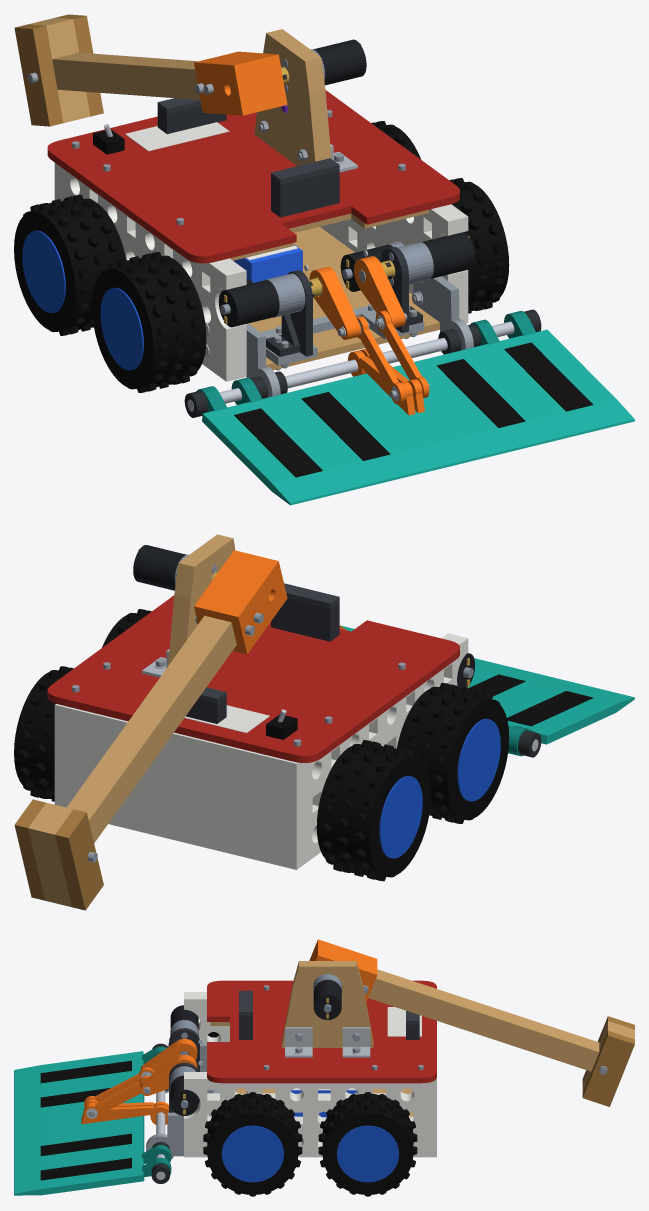
Rendered from Metal_Monster_robot.glb.
3 views of the same model, one above another, from view 1: azimuth 30°, elevation 25°; view 2: azimuth 150°, elevation 25°; view 3: azimuth 270°, elevation 25° (orthographic). The views are drawn at different scales.
Parts seen in each view (by area): view 1: Kit lid (red), Shovel blade (PLA+ print), Wheel Ø86 × 39, Kit side wall, Grip strip, Hammer stick 20×20 plywood (2 × 10 mm), Hammer motor upright 12 mm (print), Hammer hub (print, hex socket), Kit base plate (plywood), Hammer head – 10 mm plywood side plates, Shovel motor – 370 motor, Crank arm 37.5 mm (10 mm print, hex socket) (+18 smaller); view 2: Kit lid (red), Wheel Ø86 × 39, Kit rear panel 149×75×15, Hammer stick 20×20 plywood (2 × 10 mm), Kit side wall, Hammer hub (print, hex socket), Shovel blade (PLA+ print), Hammer head – 10 mm plywood side plates, Hammer motor upright 12 mm (print), Front stop post (print), Grip strip, Hammer motor – 370 motor (+3 smaller); view 3: Wheel Ø86 × 39, Kit lid (red), Shovel blade (PLA+ print), Kit side wall, Hammer stick 20×20 plywood (2 × 10 mm), Hammer motor upright 12 mm (print), Grip strip, Hammer head – 10 mm plywood side plates, Alu angle 20×20×2, Crank arm 37.5 mm (10 mm print, hex socket), Hammer hub (print, hex socket), Connecting rod 5.5 cm (4 mm print, 623ZZ bearings) (+11 smaller).
Part boxes in pixels (bbox=[...]): Kit lid (red): bbox=[47, 90, 459, 263]; Shovel blade (PLA+ print): bbox=[202, 329, 634, 505]; Wheel Ø86 × 39: bbox=[14, 121, 509, 392]; Kit side wall: bbox=[54, 163, 468, 381]; Grip strip: bbox=[234, 342, 592, 477]; Hammer stick 20×20 plywood (2 × 10 mm): bbox=[29, 17, 200, 123]; Hammer motor upright 12 mm (print): bbox=[254, 29, 331, 165]; Hammer hub (print, hex socket): bbox=[194, 51, 287, 115]; Kit base plate (plywood): bbox=[248, 227, 439, 370]; Hammer head – 10 mm plywood side plates: bbox=[14, 14, 103, 126]; Shovel motor – 370 motor: bbox=[218, 232, 475, 327]; Crank arm 37.5 mm (10 mm print, hex socket): bbox=[309, 256, 405, 339]; Kit lid (red): bbox=[47, 595, 459, 762]; Wheel Ø86 × 39: bbox=[14, 609, 509, 881]; Kit rear panel 149×75×15: bbox=[75, 709, 277, 864]; Hammer stick 20×20 plywood (2 × 10 mm): bbox=[28, 615, 236, 907]; Kit side wall: bbox=[54, 633, 468, 869]; Hammer hub (print, hex socket): bbox=[194, 550, 287, 654]; Shovel blade (PLA+ print): bbox=[341, 625, 634, 744]; Hammer head – 10 mm plywood side plates: bbox=[14, 799, 103, 910]; Hammer motor upright 12 mm (print): bbox=[168, 534, 235, 665]; Front stop post (print): bbox=[271, 598, 339, 641]; Grip strip: bbox=[469, 674, 592, 726]; Hammer motor – 370 motor: bbox=[133, 545, 186, 590]; Wheel Ø86 × 39: bbox=[203, 1032, 417, 1196]; Kit lid (red): bbox=[207, 980, 436, 1083]; Shovel blade (PLA+ print): bbox=[14, 1051, 144, 1195]; Kit side wall: bbox=[184, 992, 436, 1157]; Hammer stick 20×20 plywood (2 × 10 mm): bbox=[368, 969, 634, 1092]; Hammer motor upright 12 mm (print): bbox=[281, 961, 373, 1047]; Grip strip: bbox=[40, 1060, 131, 1180]; Hammer head – 10 mm plywood side plates: bbox=[582, 1016, 634, 1106]; Alu angle 20×20×2: bbox=[285, 1027, 370, 1057]; Crank arm 37.5 mm (10 mm print, hex socket): bbox=[140, 1038, 197, 1095]; Hammer hub (print, hex socket): bbox=[309, 939, 377, 1002]; Connecting rod 5.5 cm (4 mm print, 623ZZ bearings): bbox=[84, 1067, 154, 1120].
Bounding box in the file's own units: 0.265 × 0.1796 × 0.5396.
